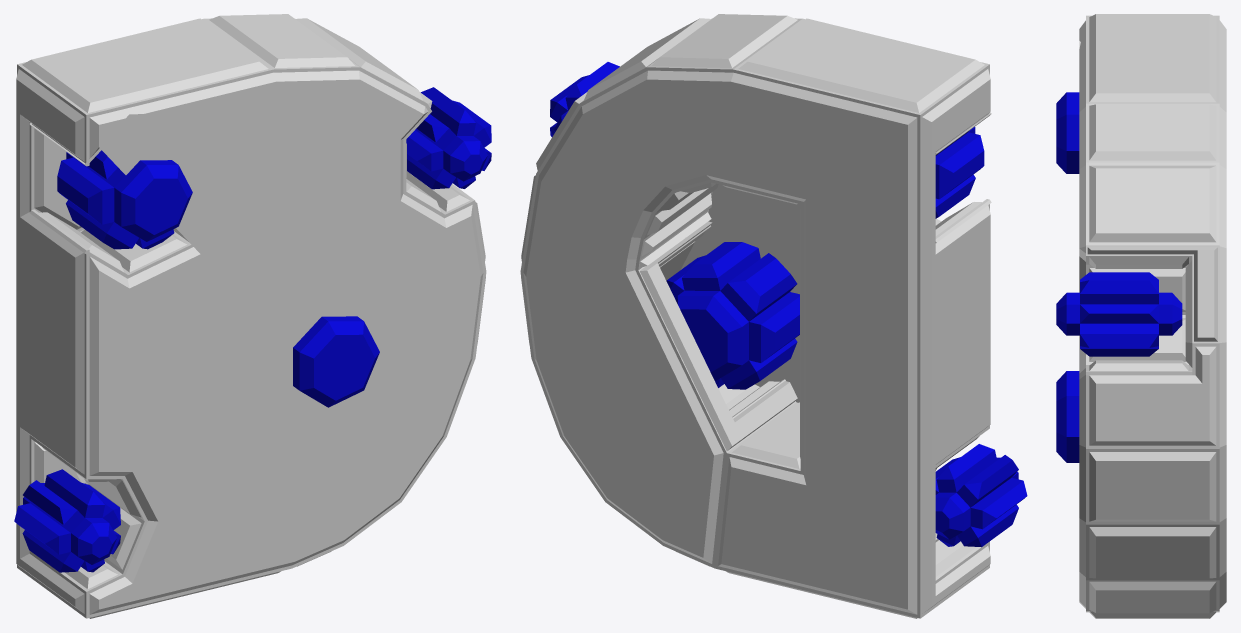
3 renders of one model, left to right at view 1: azimuth 30°, elevation 25°; view 2: azimuth 150°, elevation 25°; view 3: azimuth 270°, elevation 25°, orthographic. The views are drawn at different scales.
Parts seen in each view (by area): view 1: sphere1; view 2: sphere1; view 3: sphere1.
Boxes of the visible parts, x1=… form: sphere1: x1=14, y1=14, x2=491, y2=618; sphere1: x1=520, y1=14, x2=1027, y2=618; sphere1: x1=1056, y1=14, x2=1226, y2=618.
Size of the model in its own units: 0.7417 by 0.82 by 0.2541.
